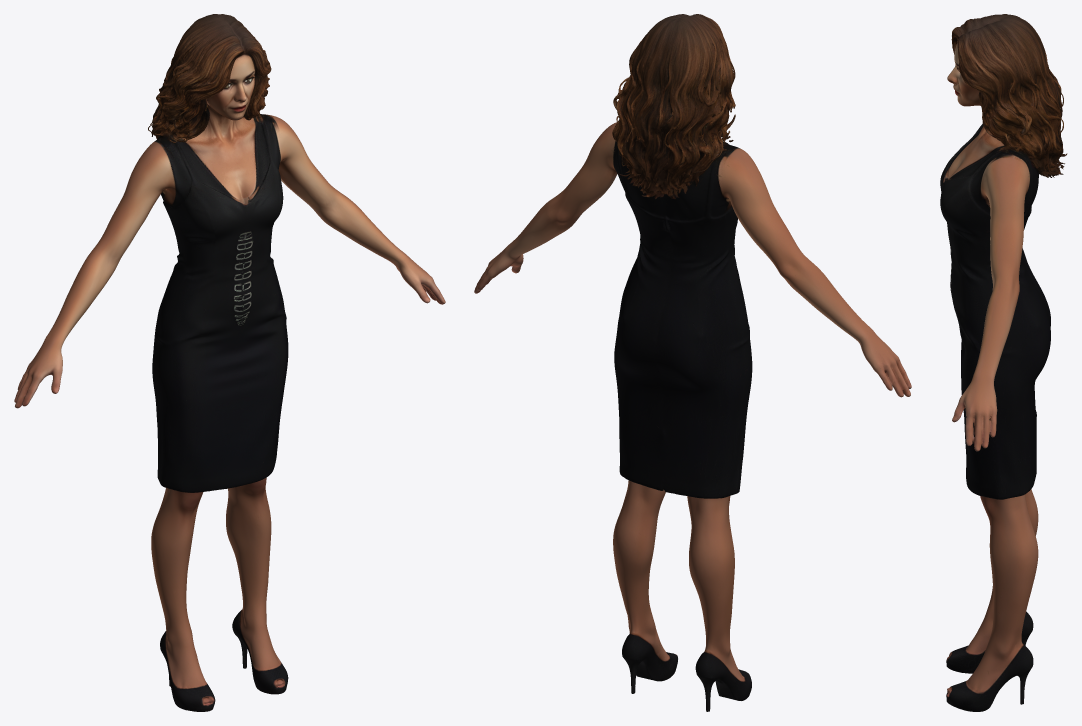
File: aura.glb
The picture shows the model from 3 angles, left to right: view 1: azimuth 30°, elevation 25°; view 2: azimuth 150°, elevation 25°; view 3: azimuth 270°, elevation 25°; orthographic projection.
Parts seen in each view (by area): view 1: Mesh_0; view 2: Mesh_0; view 3: Mesh_0.
Boxes of the visible parts, x1,y1,x2,y2 form: Mesh_0: (14, 14, 445, 711); Mesh_0: (474, 14, 911, 711); Mesh_0: (940, 14, 1067, 711).
Bounding box in the file's own units: 1.28 × 1.9 × 0.3274.
1 material, 1 textured.
